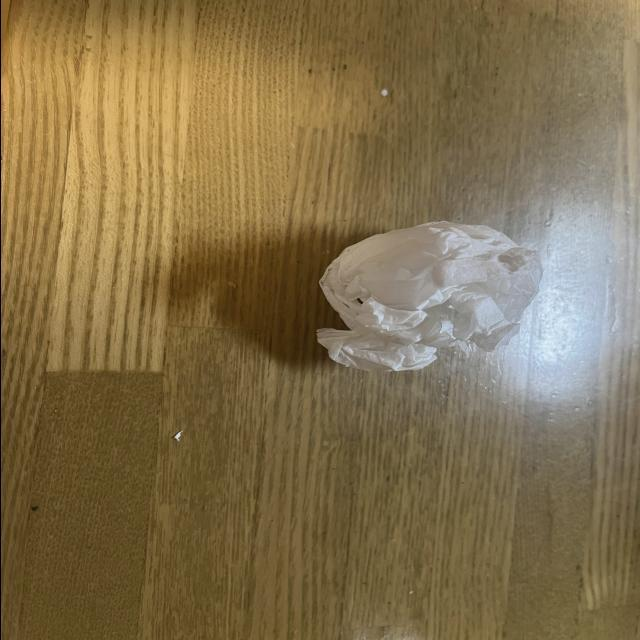Paper: (314, 204, 538, 380)
